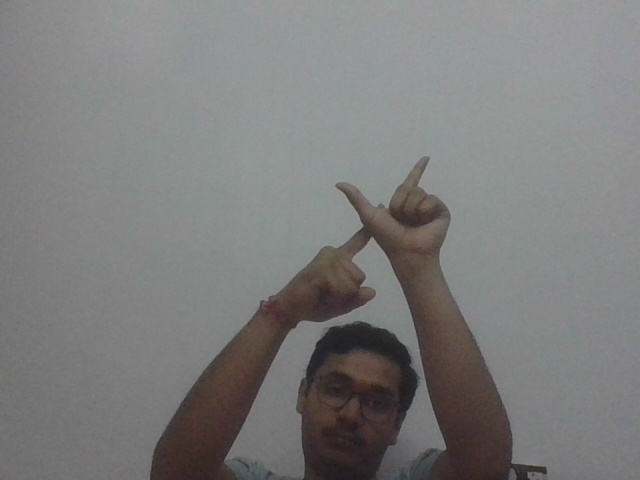Y: (327, 154, 454, 316)
